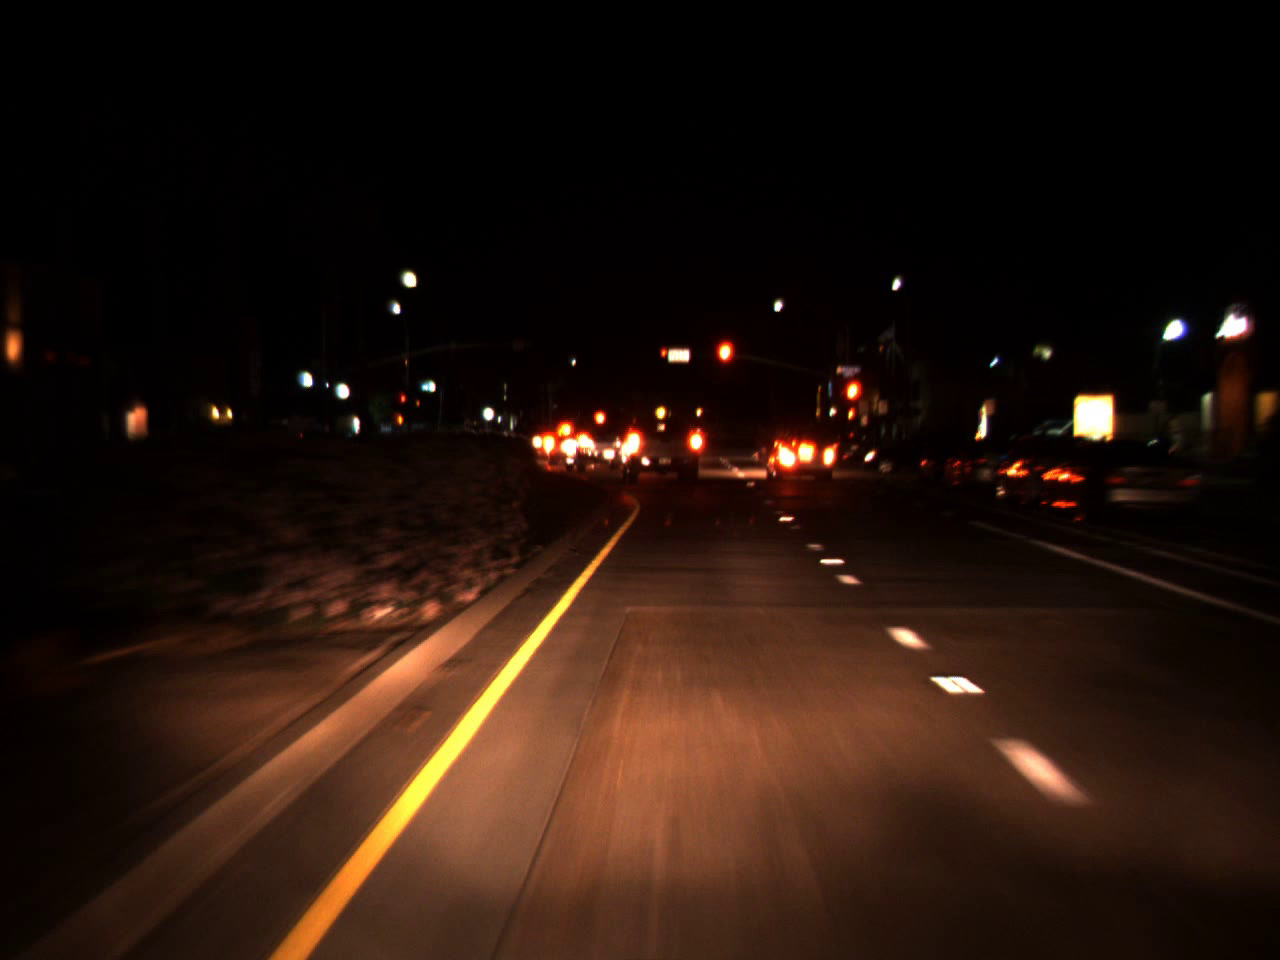stop: (714, 337, 736, 391), (842, 377, 864, 425), (660, 348, 667, 364), (400, 394, 406, 410)
